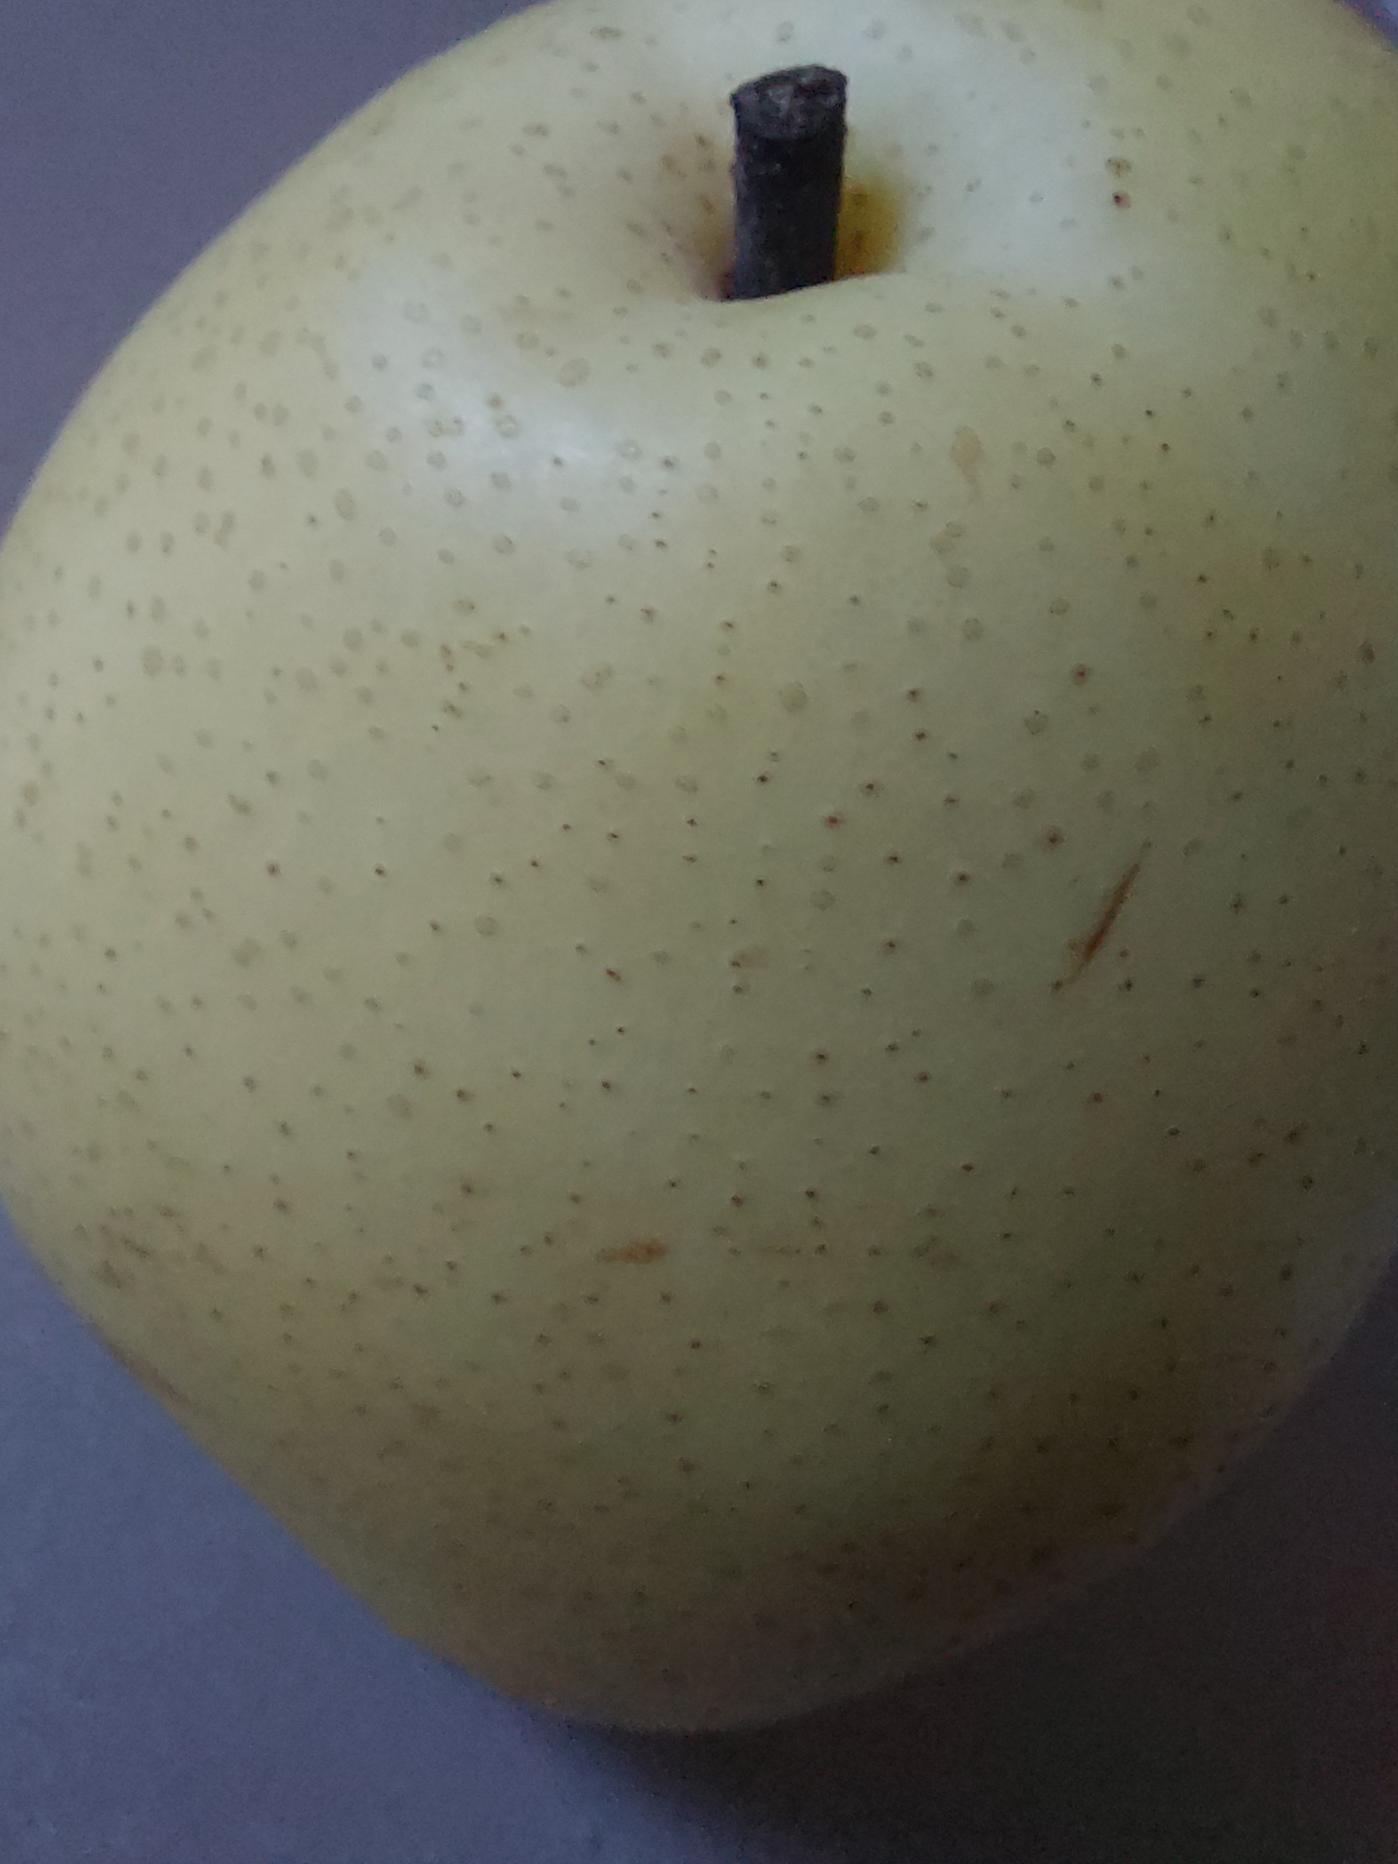Good Pear: (0, 0, 1398, 1769)
